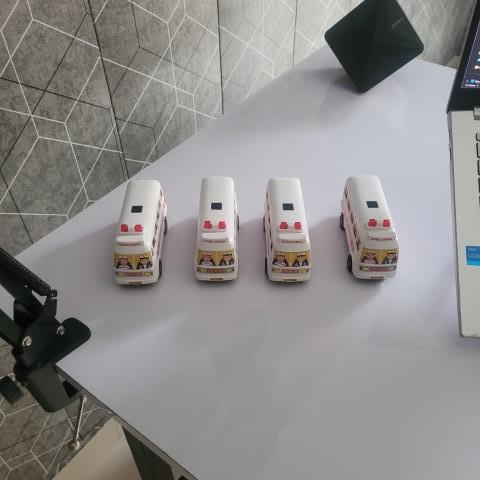ambulance: (338, 170, 401, 287), (259, 168, 317, 290), (111, 174, 174, 284), (192, 172, 245, 287)
